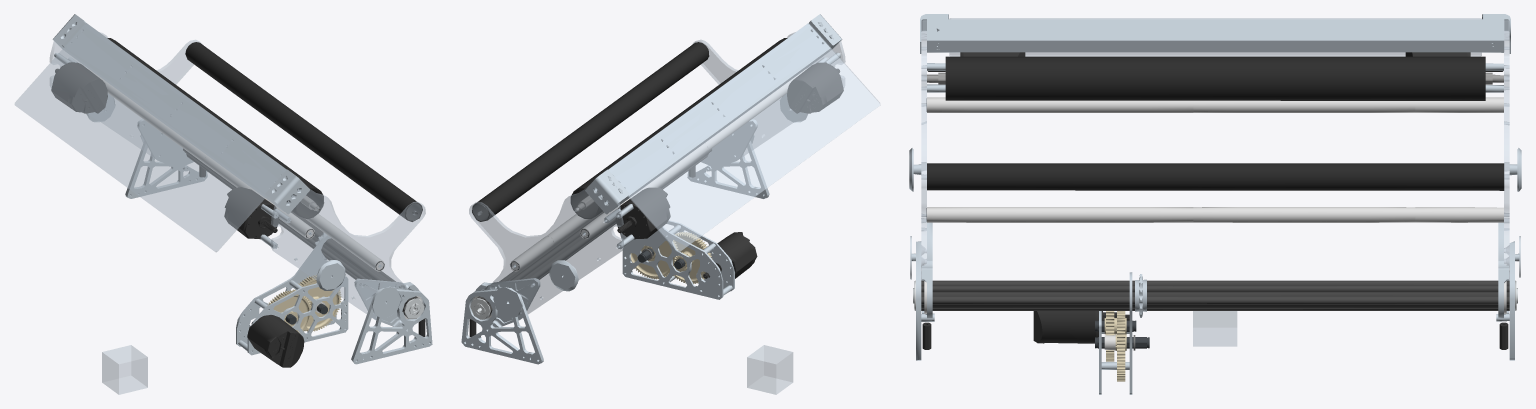
The model's file is 1678-intake.glb.
3 renders of one model, left to right at view 1: azimuth 30°, elevation 25°; view 2: azimuth 150°, elevation 25°; view 3: azimuth 270°, elevation 25°, orthographic. The views are drawn at different scales.
Parts seen in each view (by area): view 1: Part 1, 1678-26c-1530, 1678-26c-1506, Kraken X60 Brushless Motor-Mirrored, Part 18, 1678-26a-0409, 62t Pocketed Aluminum Spur Gear (20 DP, 1/2" Hex Bore); view 2: Part 1, 1678-26c-1530, 1678-26c-1506, Kraken X60 Brushless Motor-Mirrored, Part 18, 1678-26a-0409, 62t Pocketed Aluminum Spur Gear (20 DP, 1/2" Hex Bore); view 3: 1678-26c-1506, 1678-26c-1530, 1678-26a-0409, Part 18, Part 1, Kraken X60 Brushless Motor-Mirrored, 62t Pocketed Aluminum Spur Gear (20 DP, 1/2" Hex Bore), 1678-25-P-0216.
Boxes of the visible parts, left/top/right/bottom form: Part 1: left=14, top=23, right=425, bottom=394; 1678-26c-1530: left=52, top=14, right=432, bottom=364; 1678-26c-1506: left=107, top=38, right=422, bottom=270; Kraken X60 Brushless Motor-Mirrored: left=51, top=62, right=425, bottom=367; Part 18: left=88, top=69, right=384, bottom=312; 1678-26a-0409: left=183, top=148, right=418, bottom=315; 62t Pocketed Aluminum Spur Gear (20 DP, 1/2" Hex Bore): left=267, top=274, right=341, bottom=333; Part 1: left=469, top=23, right=880, bottom=394; 1678-26c-1530: left=461, top=14, right=842, bottom=364; 1678-26c-1506: left=472, top=38, right=787, bottom=270; Kraken X60 Brushless Motor-Mirrored: left=469, top=62, right=843, bottom=336; Part 18: left=510, top=69, right=806, bottom=271; 1678-26a-0409: left=476, top=148, right=711, bottom=316; 62t Pocketed Aluminum Spur Gear (20 DP, 1/2" Hex Bore): left=630, top=232, right=712, bottom=283; 1678-26c-1506: left=926, top=56, right=1504, bottom=221; 1678-26c-1530: left=909, top=14, right=1521, bottom=394; 1678-26a-0409: left=921, top=280, right=1509, bottom=310; Part 18: left=927, top=97, right=1503, bottom=350; Part 1: left=921, top=18, right=1509, bottom=346; Kraken X60 Brushless Motor-Mirrored: left=922, top=52, right=1508, bottom=349; 62t Pocketed Aluminum Spur Gear (20 DP, 1/2" Hex Bore): left=1104, top=311, right=1126, bottom=381; 1678-25-P-0216: left=1095, top=320, right=1149, bottom=348.
Size of the model in its own units: 0.3636 by 0.4573 by 0.7007.
